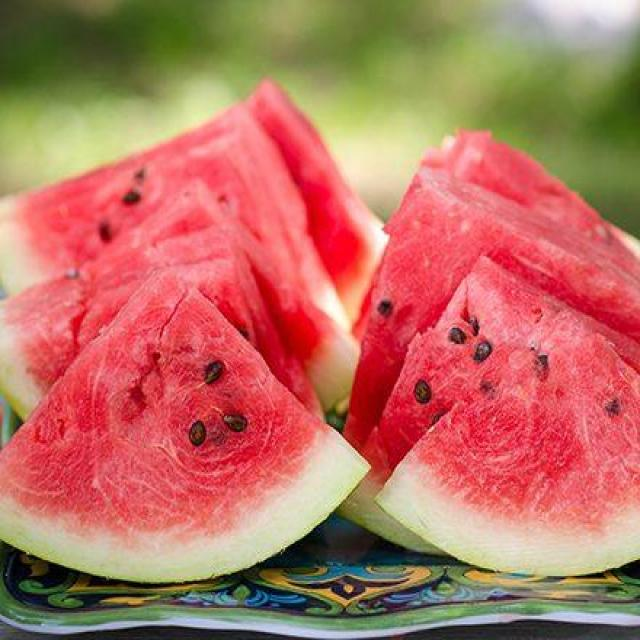watermelon: (0, 258, 374, 585), (339, 262, 640, 557), (385, 298, 640, 577)
